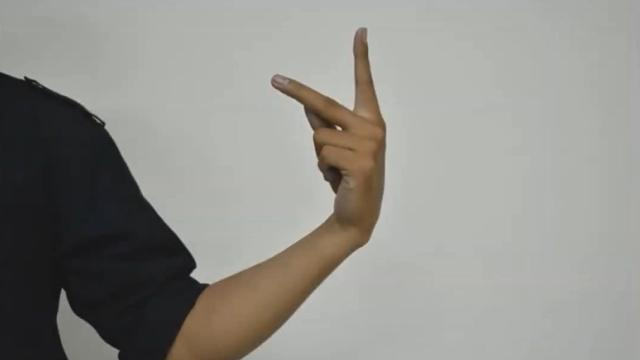K: (268, 24, 392, 236)
